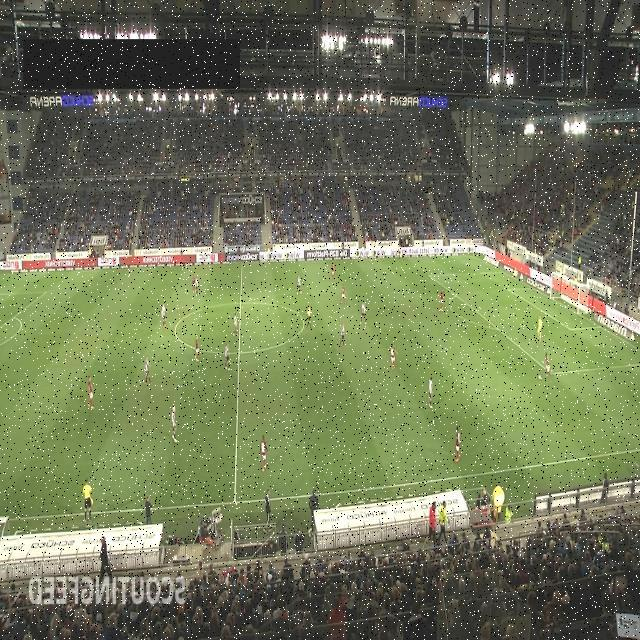Ball: (538, 373, 542, 381)
Corner: (472, 245, 474, 256)
GoalKeeper: (537, 314, 543, 342)
Referee: (82, 477, 94, 522), (306, 304, 312, 330), (398, 244, 402, 258)
TEAM 1: (260, 434, 268, 472), (87, 374, 95, 410), (390, 342, 398, 370), (455, 425, 461, 462), (544, 352, 552, 376), (339, 284, 346, 305), (329, 261, 336, 281), (195, 334, 199, 362), (440, 288, 444, 312), (192, 272, 196, 294)
TEAM 2: (144, 355, 152, 385), (171, 406, 177, 442), (428, 376, 434, 409), (359, 300, 366, 324), (224, 342, 230, 370), (161, 302, 167, 328), (339, 322, 345, 348), (296, 274, 302, 296), (194, 277, 200, 297), (234, 313, 238, 337)
